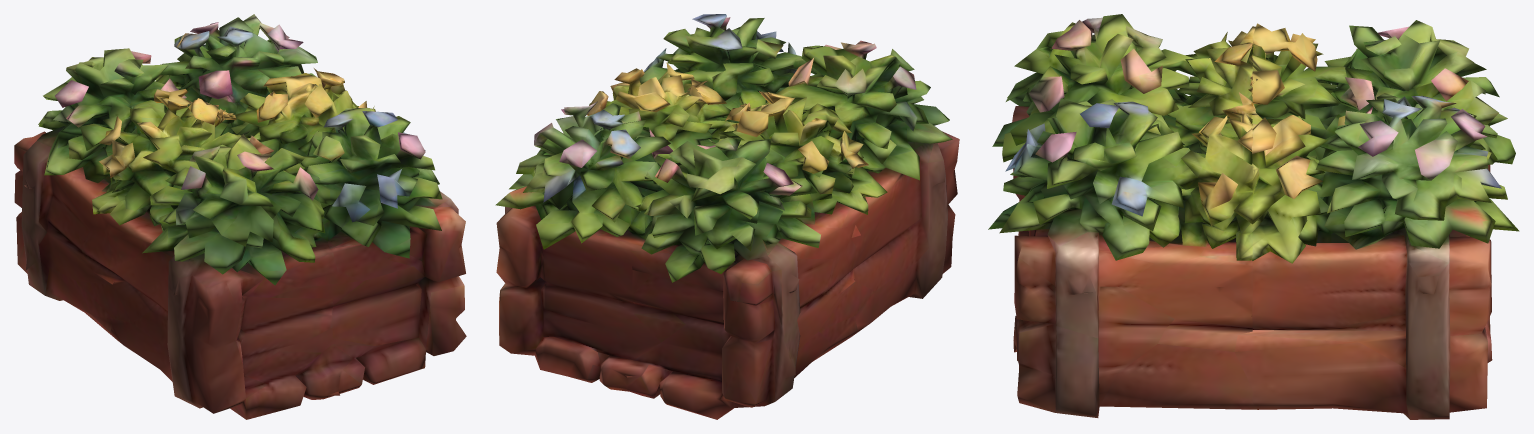
Rendered from flower_box.glb.
3 renders of one model, left to right at view 1: azimuth 30°, elevation 25°; view 2: azimuth 150°, elevation 25°; view 3: azimuth 270°, elevation 25°, orthographic. The views are drawn at different scales.
Parts seen in each view (by area): view 1: tripo_node_127b84db-80f0-4ea4-9fd6-6a07fc470ea1; view 2: tripo_node_127b84db-80f0-4ea4-9fd6-6a07fc470ea1; view 3: tripo_node_127b84db-80f0-4ea4-9fd6-6a07fc470ea1.
Part boxes in pixels (x1=…): tripo_node_127b84db-80f0-4ea4-9fd6-6a07fc470ea1: x1=14, y1=14, x2=466, y2=419; tripo_node_127b84db-80f0-4ea4-9fd6-6a07fc470ea1: x1=495, y1=14, x2=959, y2=419; tripo_node_127b84db-80f0-4ea4-9fd6-6a07fc470ea1: x1=988, y1=14, x2=1519, y2=419.
Size of the model in its own units: 0.7566 by 0.6106 by 0.9923.
1 material, 1 textured.
